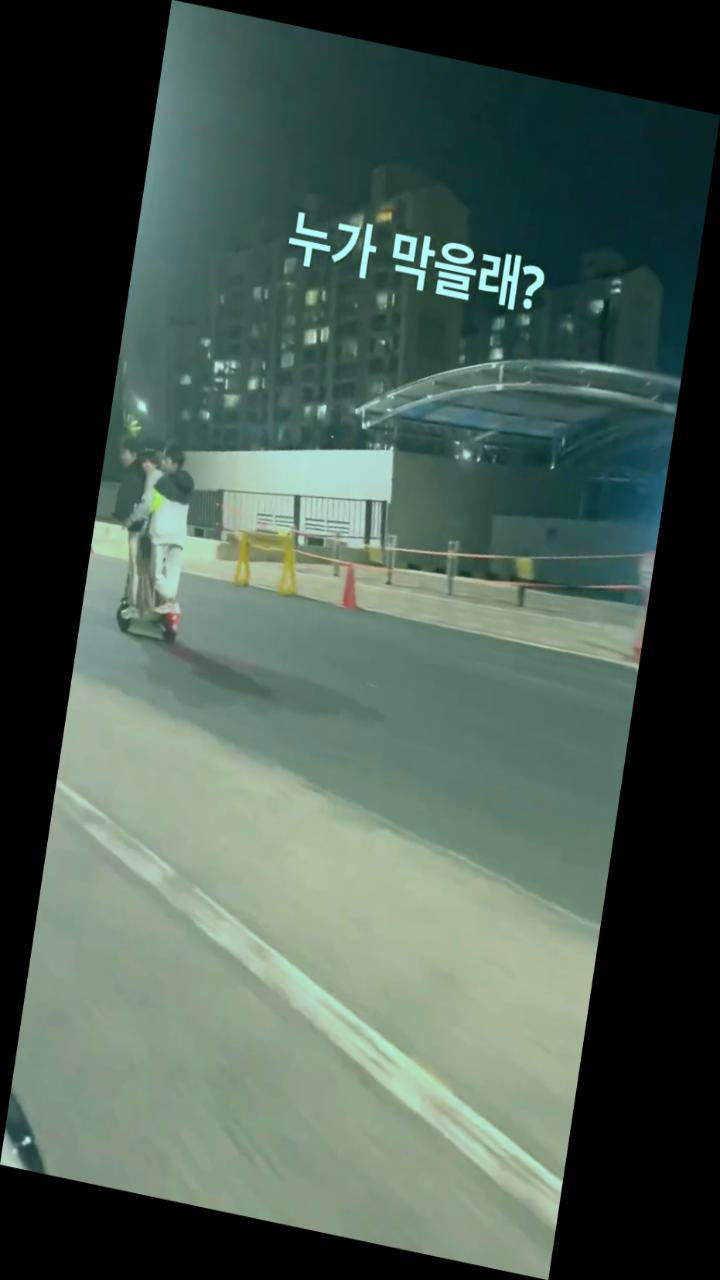multiple: (87, 429, 211, 650)
